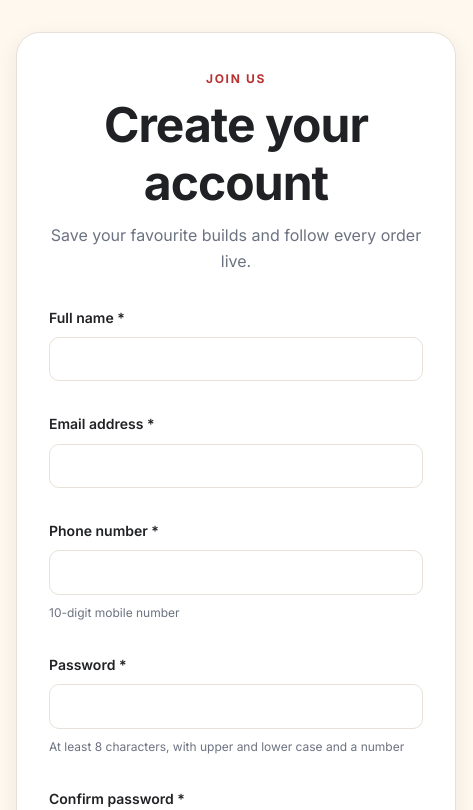
Scenario: Register form › blocks submission locally when passwords do not match
The image size is (473, 810).
Type "Asha Rao" into the field labelled "Full name *" at (236, 359), box [49,337,423,381]
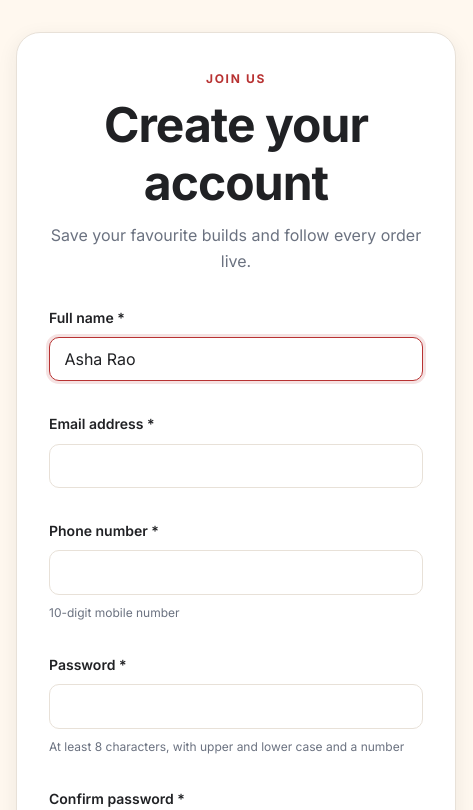
Type "asha@example.com" into the field labelled "Email address *" at (236, 466), box [49,444,423,488]
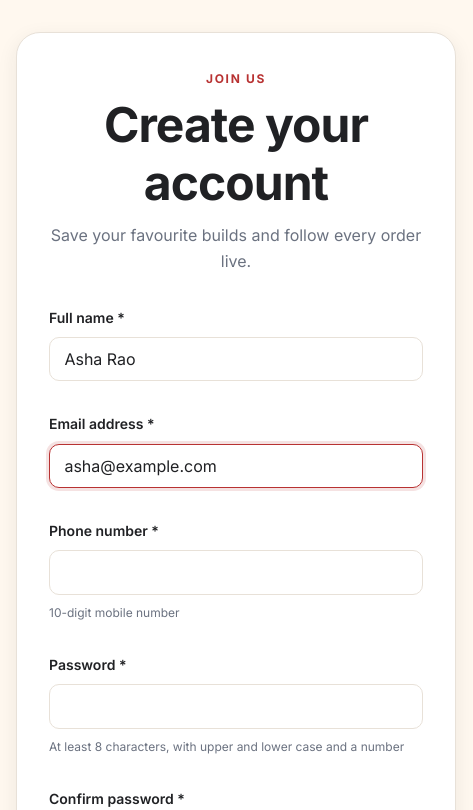
Type "9876543210" into the field labelled "Phone number *" at (236, 573), box [49,550,423,595]
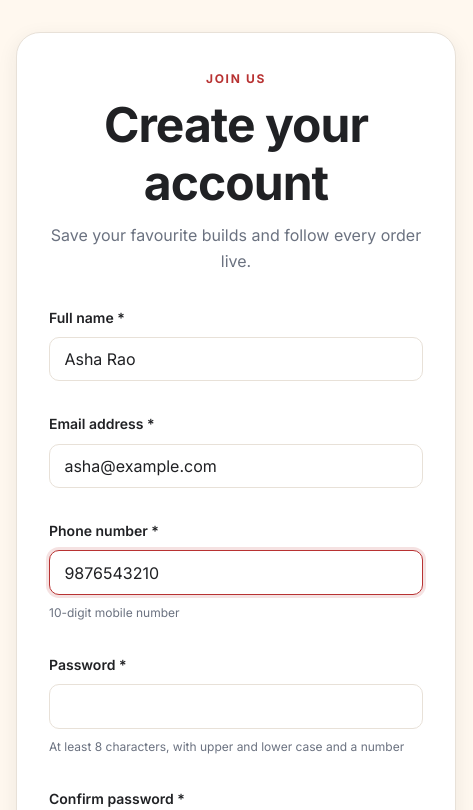
Type "Str0ngPass1" into the password field labelled "Password *" at (236, 707), box [49,684,423,729]
(page scrolled)
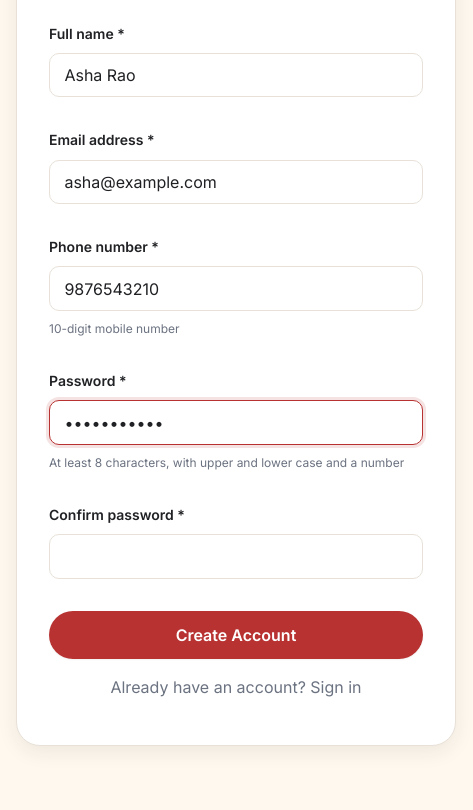
Type "Mismatch1" into the password field labelled "Confirm password *" at (236, 557), box [49,534,423,579]
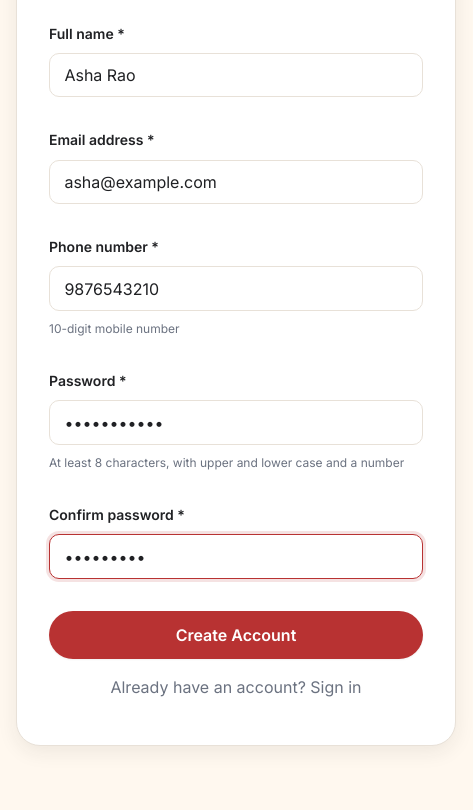
Click the button "Create Account" at (236, 635), box [49,611,423,659]
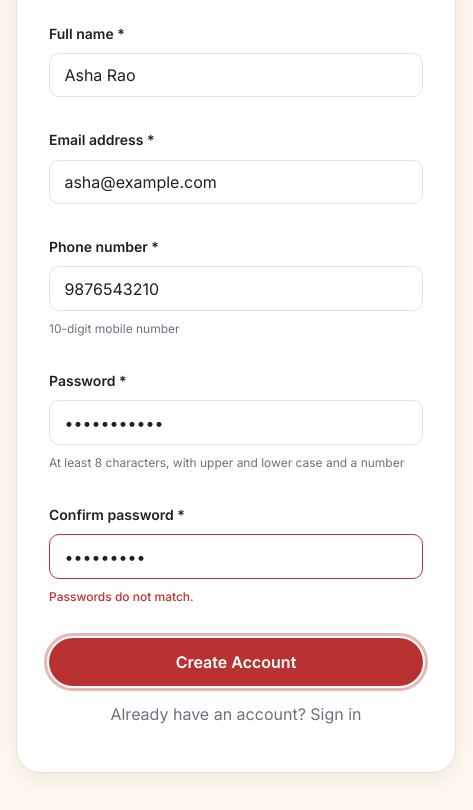
Expected: the text "Passwords do not match." is shown, [49,589,194,604]
